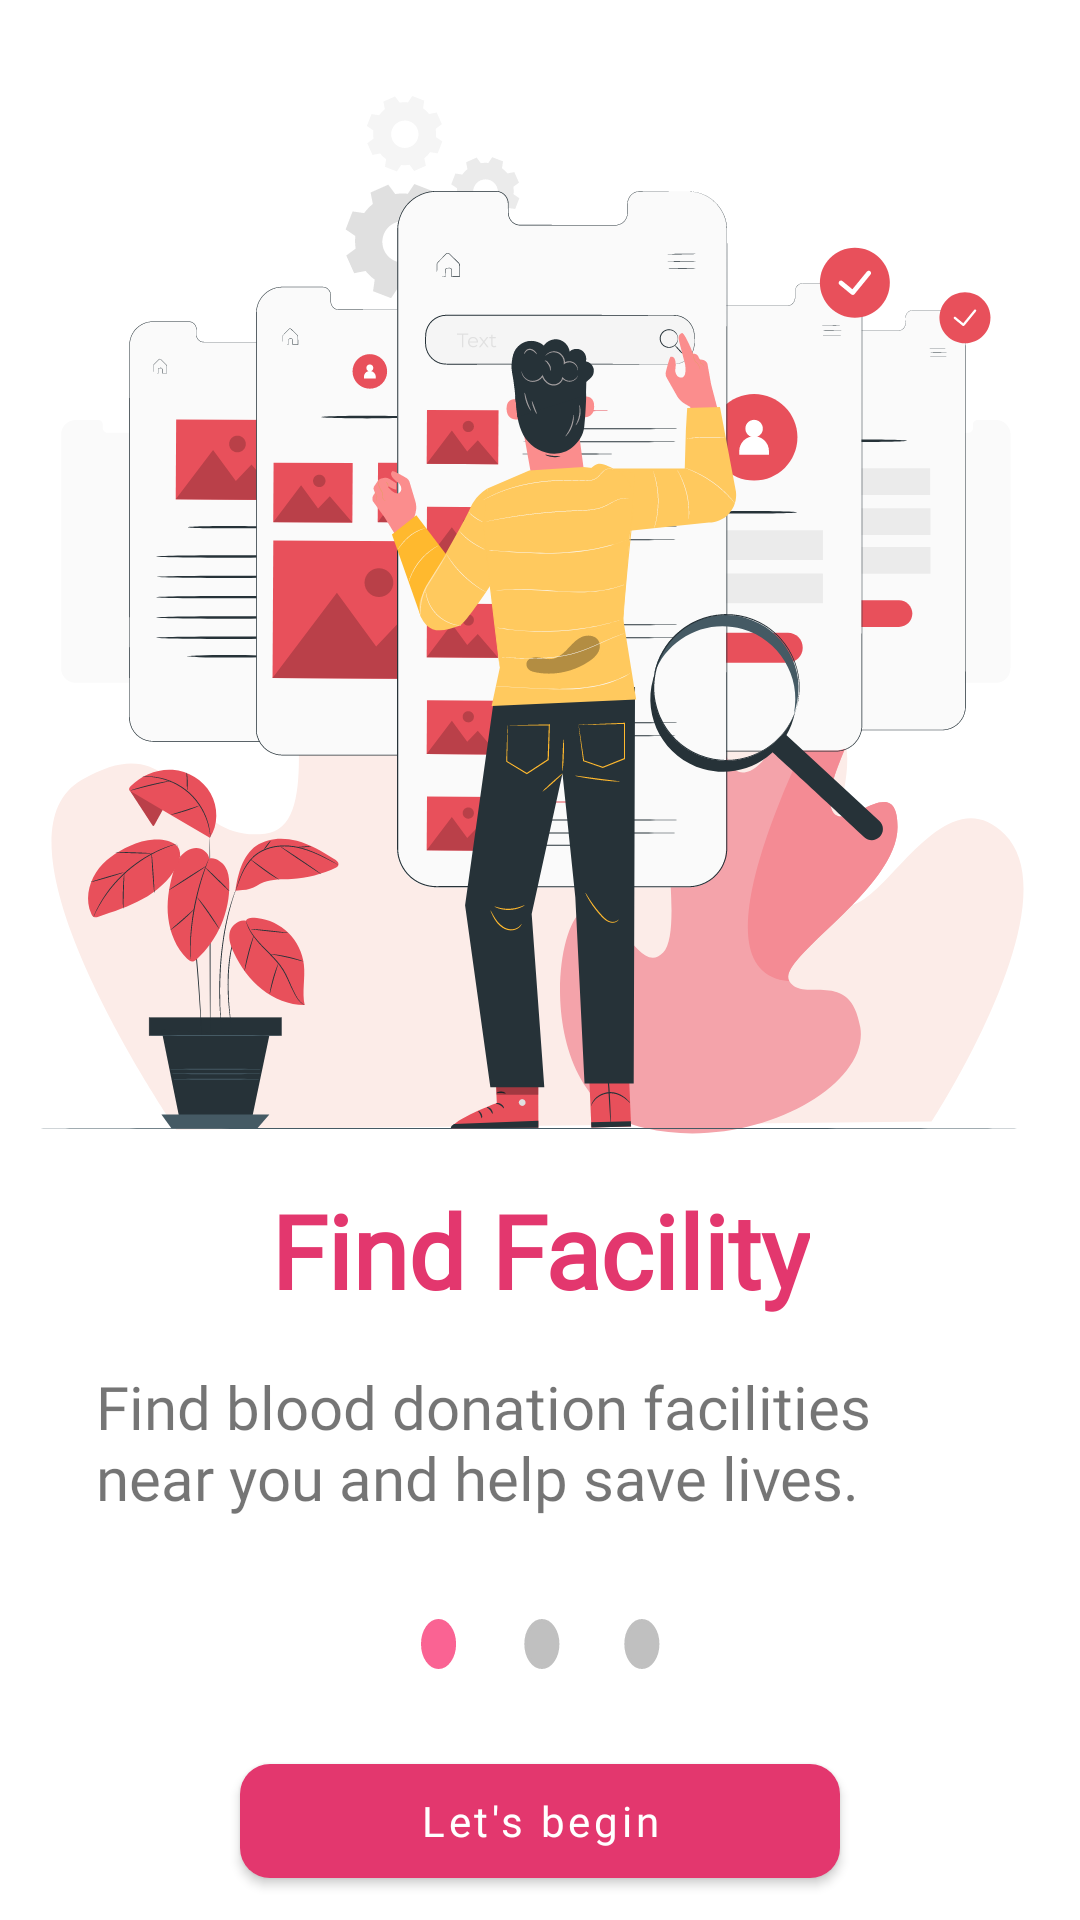

Where to tap for icons on this 1080px×1920px app screen, as (x,y):
dots: (540,1644)
